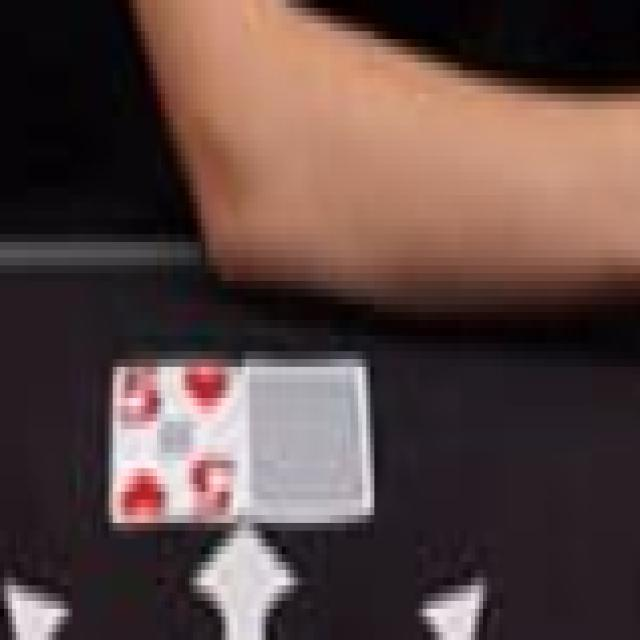Card-5: (113, 355, 244, 521)
